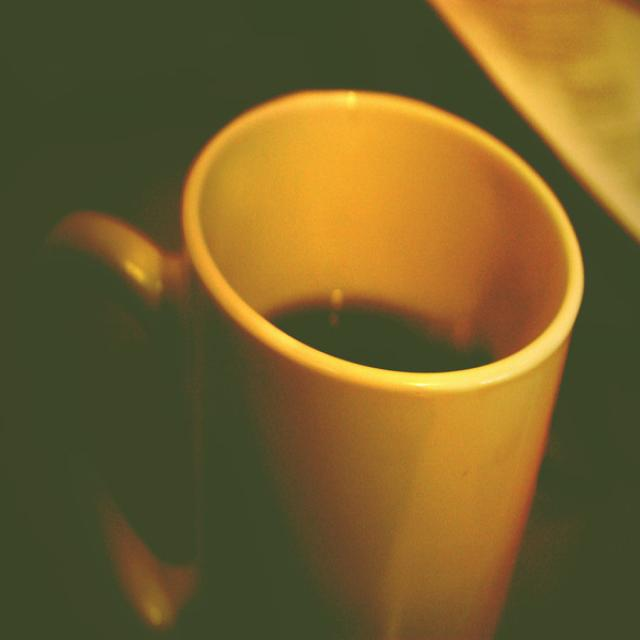Cup: (6, 105, 603, 640)
